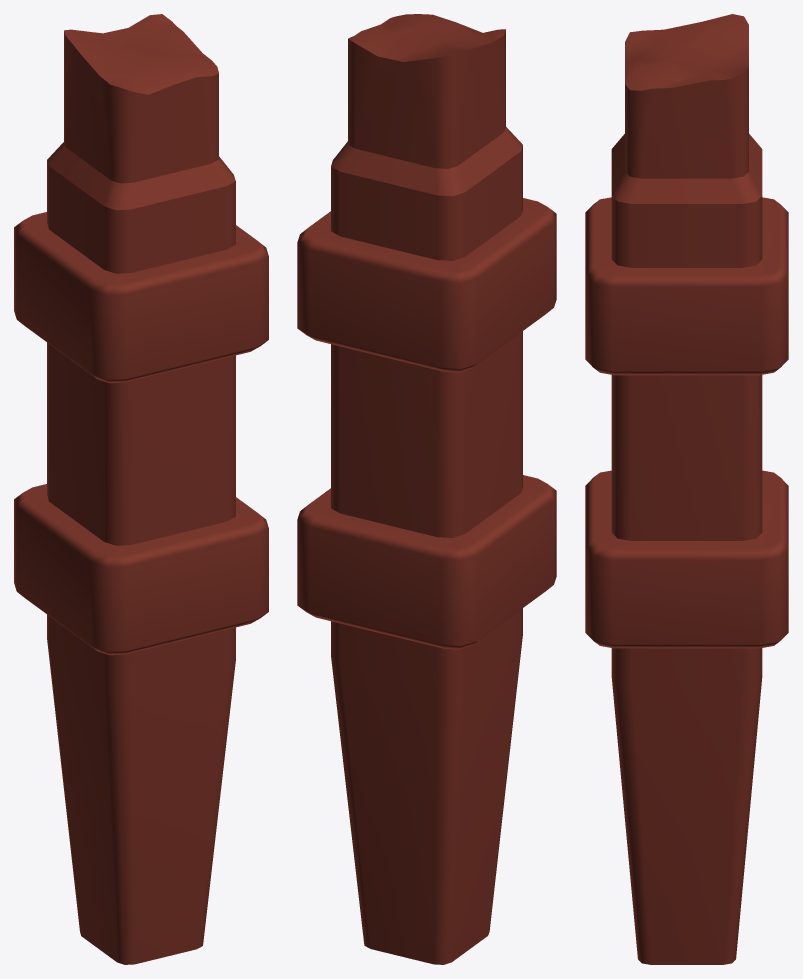
File: passage_destroyed_001.fbx
The picture shows the model from 3 angles, left to right: view 1: azimuth 30°, elevation 25°; view 2: azimuth 150°, elevation 25°; view 3: azimuth 270°, elevation 25°; orthographic projection.
Visible parts, largest first — view 1: passage_destroyed_001; view 2: passage_destroyed_001; view 3: passage_destroyed_001.
Part boxes in pixels (left/top/right/bottom): passage_destroyed_001: left=14, top=14, right=268, bottom=964; passage_destroyed_001: left=297, top=14, right=556, bottom=964; passage_destroyed_001: left=585, top=14, right=788, bottom=964.
Bounding box in the file's own units: 271 × 271 × 1329.
